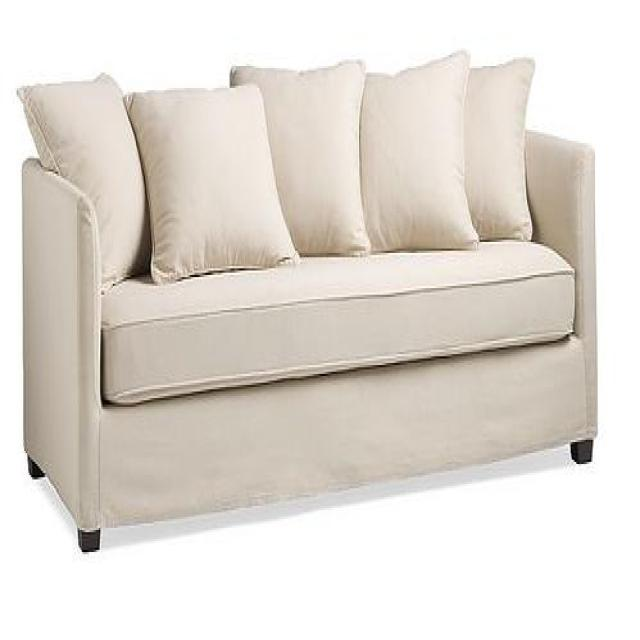sofa: (14, 52, 602, 556)
